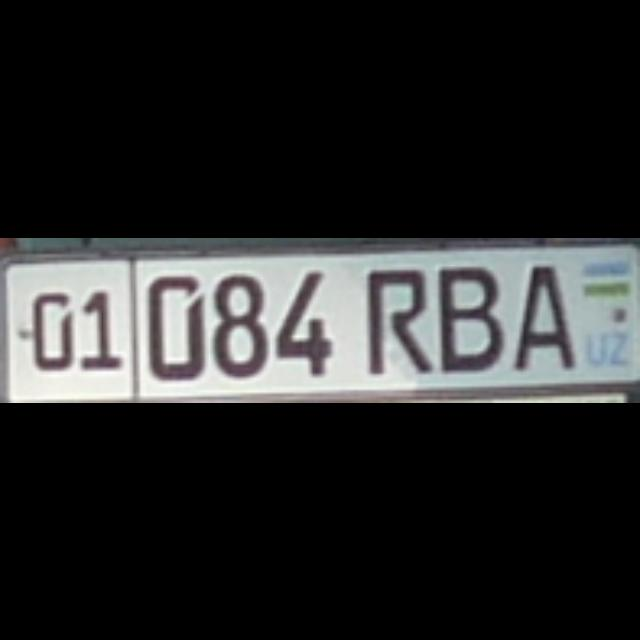0: (144, 269, 198, 373), (26, 286, 68, 364)
1: (75, 282, 117, 363)
4: (270, 264, 328, 370)
8: (208, 266, 264, 370)
A: (510, 260, 568, 364)
B: (436, 262, 500, 364)
R: (360, 263, 426, 367)
